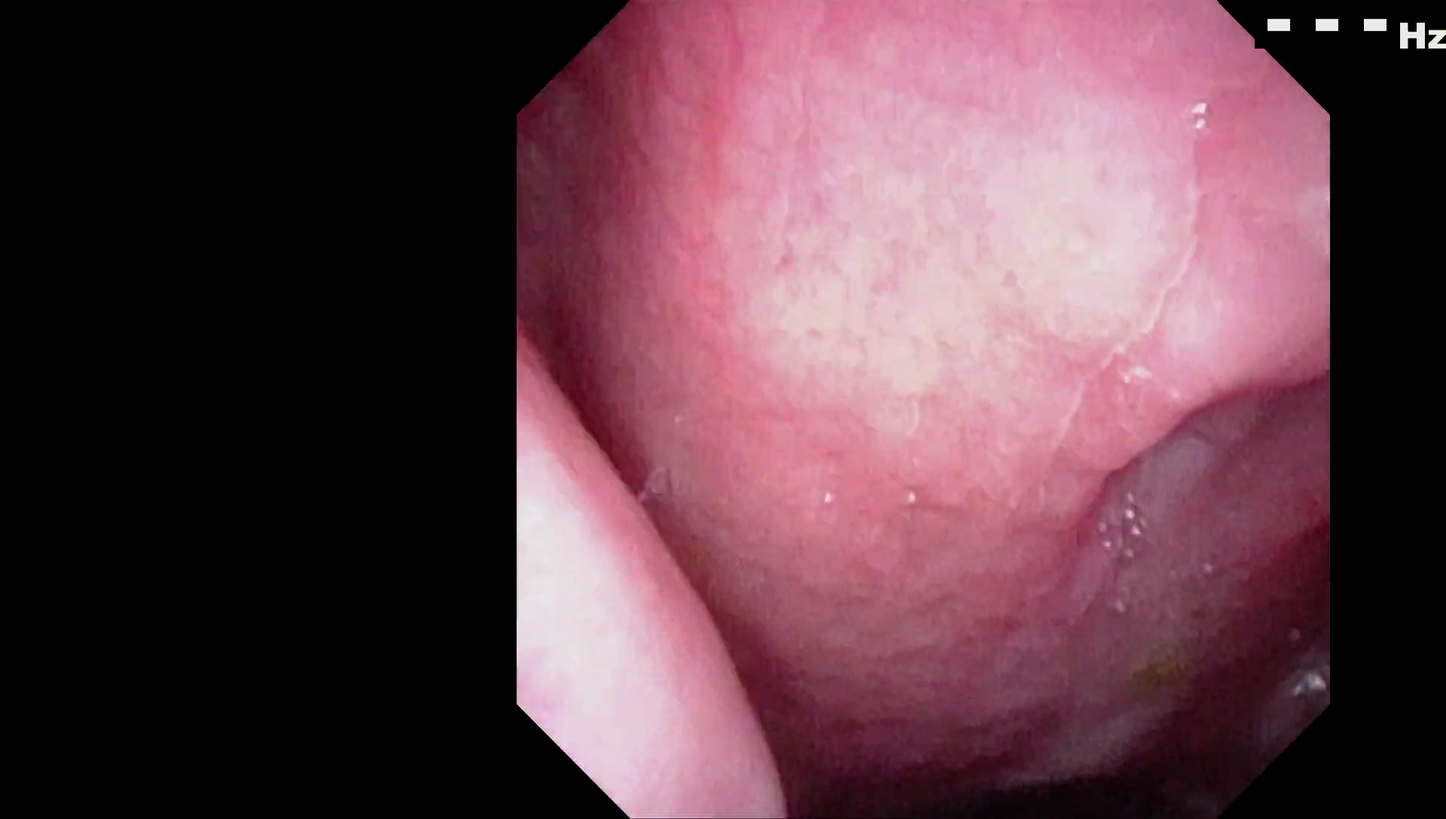close_wall: (705, 53, 1245, 483), (527, 364, 782, 808)
next: (818, 695, 1244, 819)
